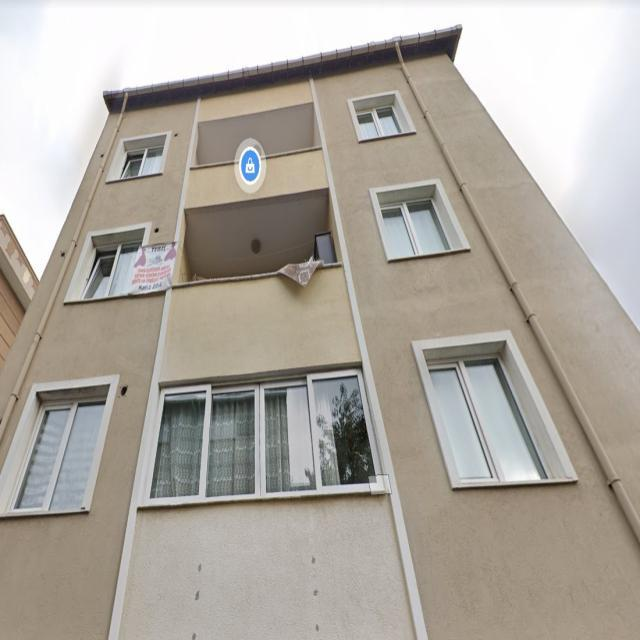Building: (0, 24, 640, 640)
